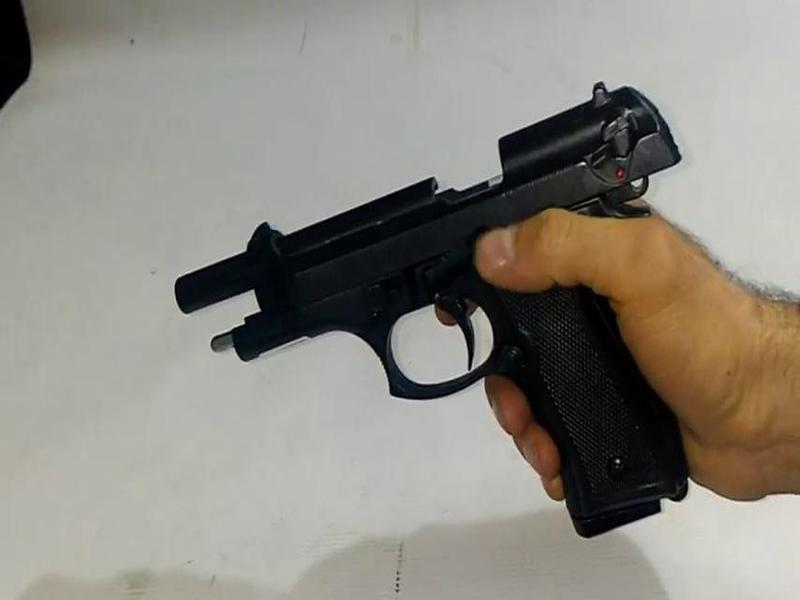Pistola: (149, 70, 710, 557)
